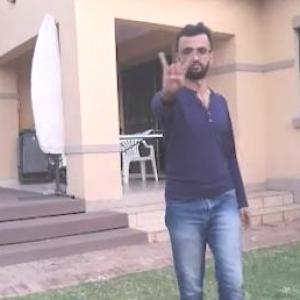takeoff-hand: (149, 43, 196, 109)
